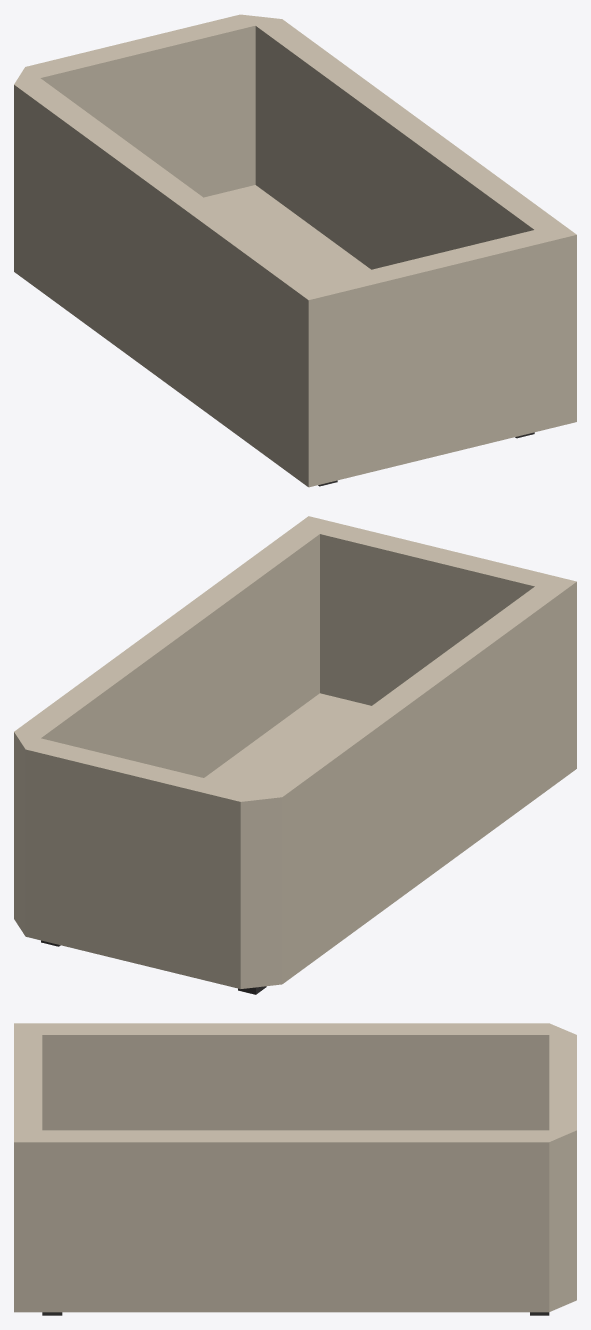
The model's file is banheia.gltf.
The picture shows the model from 3 angles, top to bottom: view 1: azimuth 30°, elevation 25°; view 2: azimuth 150°, elevation 25°; view 3: azimuth 270°, elevation 25°; orthographic projection. The views are drawn at different scales.
Parts seen in each view (by area): view 1: Cube; view 2: Cube; view 3: Cube.
Boxes of the visible parts, bbox=[...] form: Cube: bbox=[14, 14, 576, 487]; Cube: bbox=[14, 516, 576, 994]; Cube: bbox=[14, 1023, 576, 1315].
Bounding box in the file's own units: 3 × 2.18 × 6.
1 material, 1 textured.
